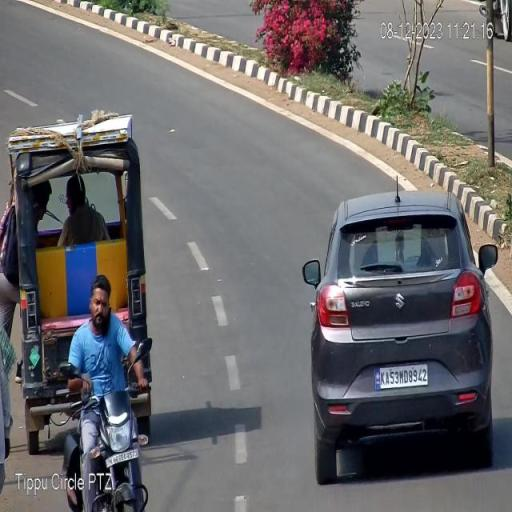using mobile: (104, 298, 114, 340)
